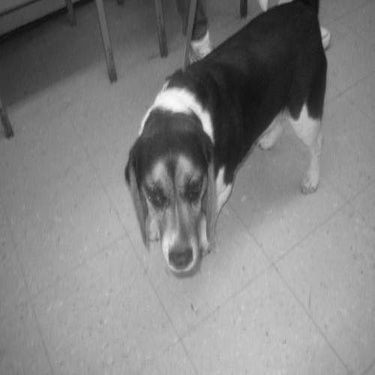dog: (114, 1, 335, 285)
